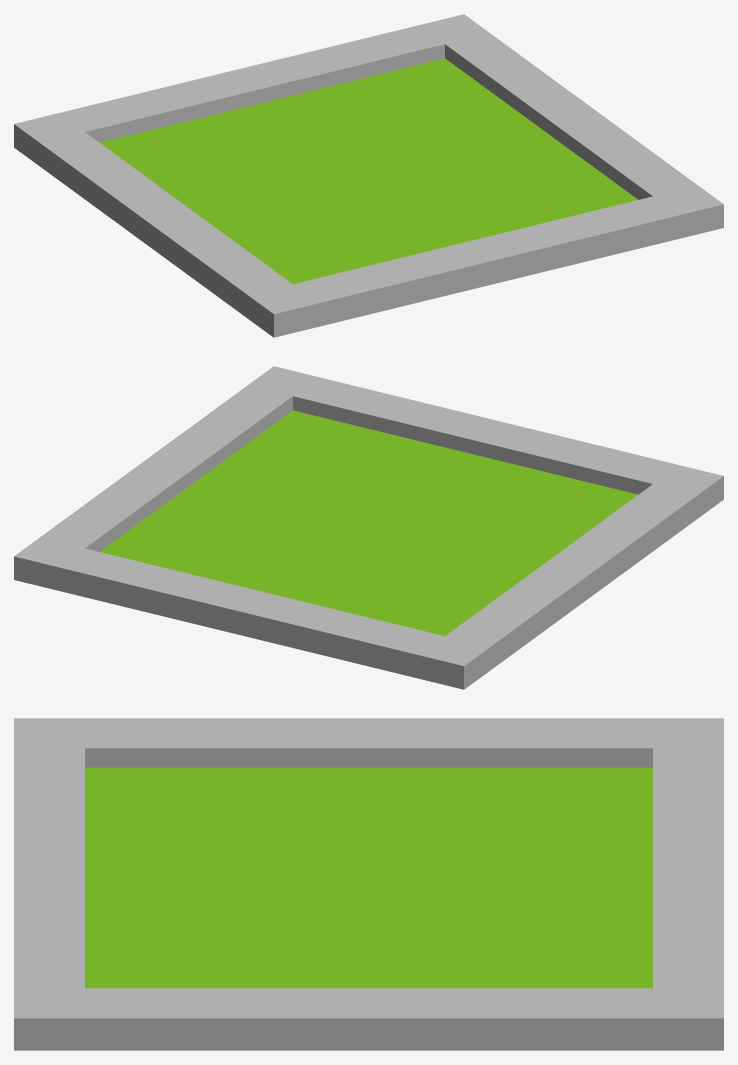
The model's file is grass_03.fbx.
The picture shows the model from 3 angles, top to bottom: view 1: azimuth 30°, elevation 25°; view 2: azimuth 150°, elevation 25°; view 3: azimuth 270°, elevation 25°; orthographic projection. The views are drawn at different scales.
Parts seen in each view (by area): view 1: grass_03; view 2: grass_03; view 3: grass_03.
Part boxes in pixels (left/top/right/bottom): grass_03: left=14, top=14, right=723, bottom=337; grass_03: left=14, top=366, right=723, bottom=689; grass_03: left=14, top=718, right=723, bottom=1050.
Size of the model in its own units: 2 by 0.1 by 2.
